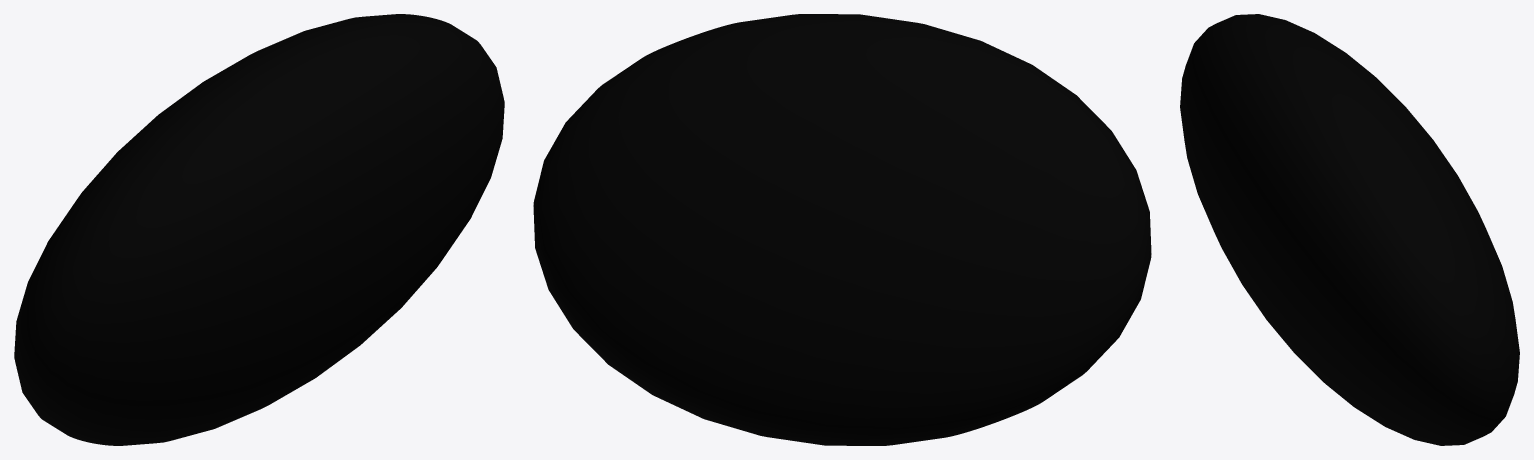
Rendered from kyuutai_eye.fbx.
3 renders of one model, left to right at view 1: azimuth 30°, elevation 25°; view 2: azimuth 150°, elevation 25°; view 3: azimuth 270°, elevation 25°, orthographic. The views are drawn at different scales.
Parts seen in each view (by area): view 1: 球.009; view 2: 球.009; view 3: 球.009.
Part boxes in pixels (x1,y1,x2,y2): 球.009: (14,14,504,445); 球.009: (533,14,1151,445); 球.009: (1180,14,1519,445).
Bounding box in the file's own units: 21.84 × 38.21 × 26.1.
